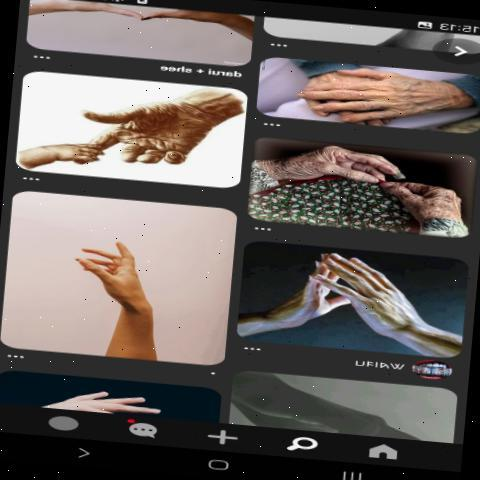Hands: (58, 216, 177, 357), (70, 86, 223, 186), (308, 257, 444, 343), (297, 56, 460, 125), (255, 146, 395, 202), (368, 168, 474, 226)
